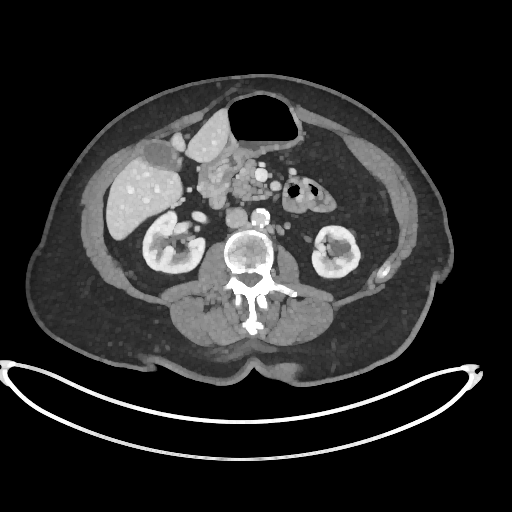Lesion: (324, 233, 354, 264)
